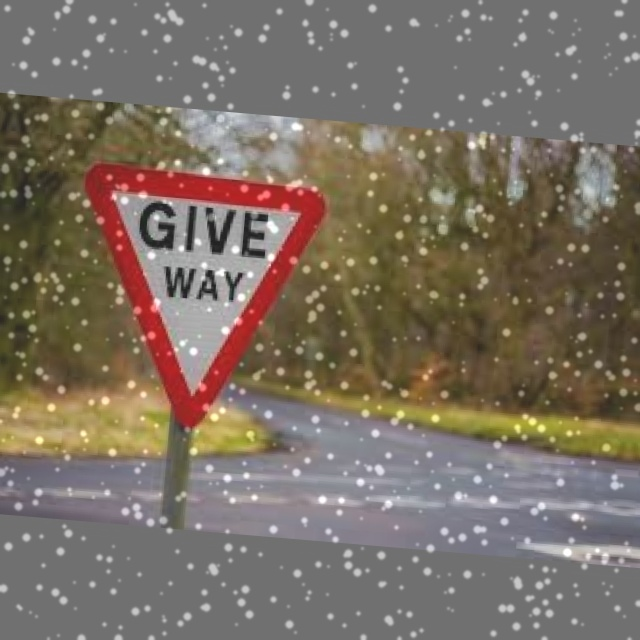Give_Way: (73, 168, 319, 426)
